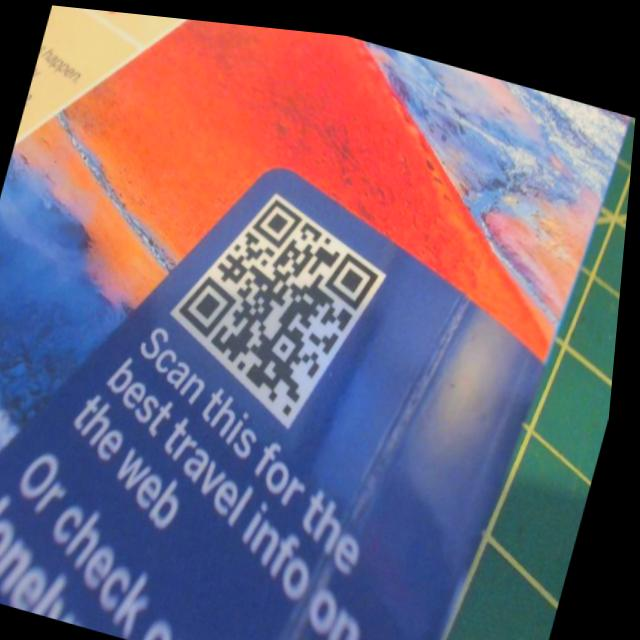QR_CODE: (150, 144, 408, 439)
